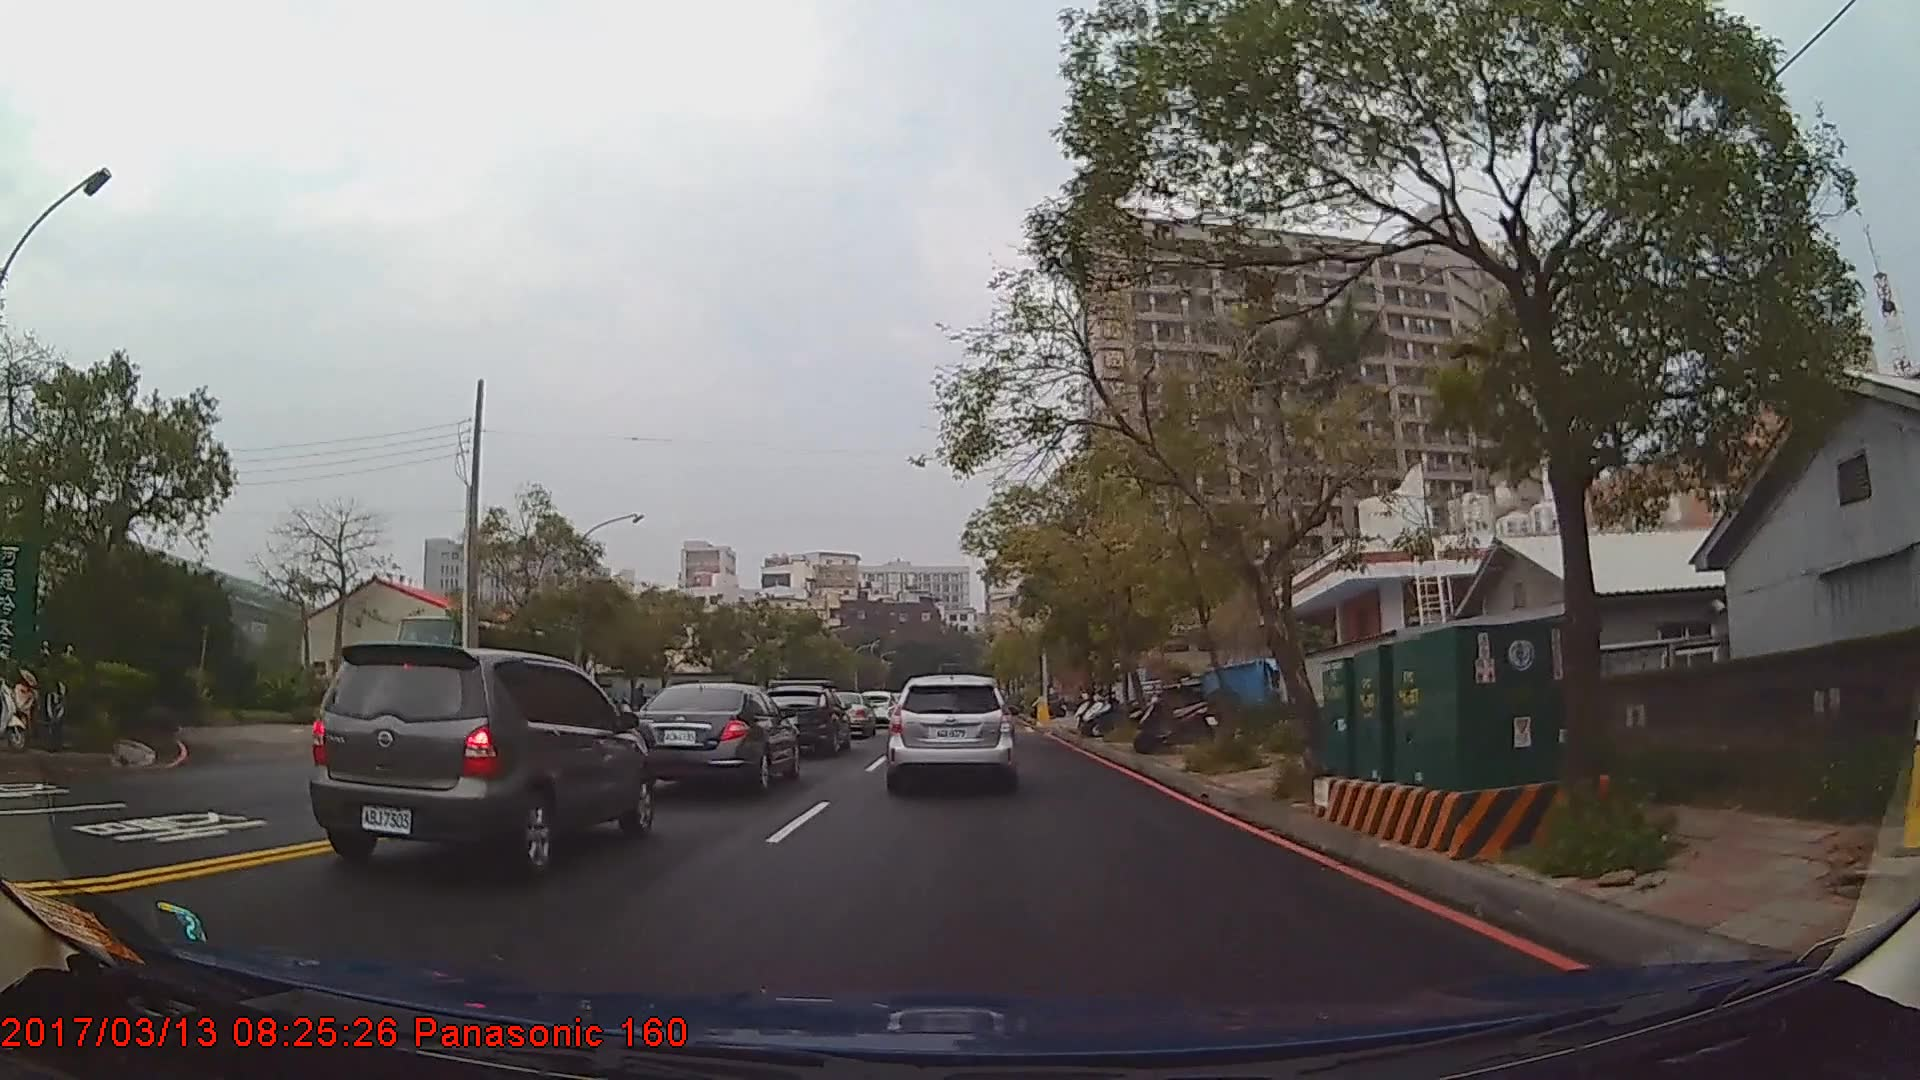vehicle: (305, 640, 654, 872), (625, 676, 803, 790), (886, 670, 1017, 789), (756, 684, 851, 756), (819, 688, 874, 736)
